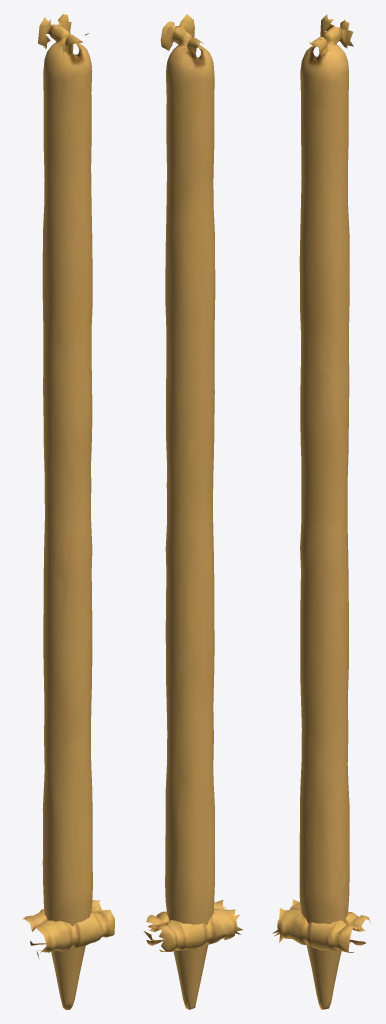
Rendered from stumps.glb.
The picture shows the model from 3 angles, left to right: view 1: azimuth 30°, elevation 25°; view 2: azimuth 210°, elevation 25°; view 3: azimuth 330°, elevation 25°; orthographic projection.
Visible parts, largest first — view 1: stump, bail; view 2: stump, bail; view 3: stump, bail.
Part boxes in pixels (x1,y1,x2,y2): stump: (38,14,92,1009); bail: (22,900,114,959); stump: (160,14,215,1009); bail: (144,900,242,951); stump: (299,14,353,1009); bail: (272,899,371,952).
Bounding box in the file's own units: 0.0697 × 0.7981 × 0.048.
1 material, 1 textured.
